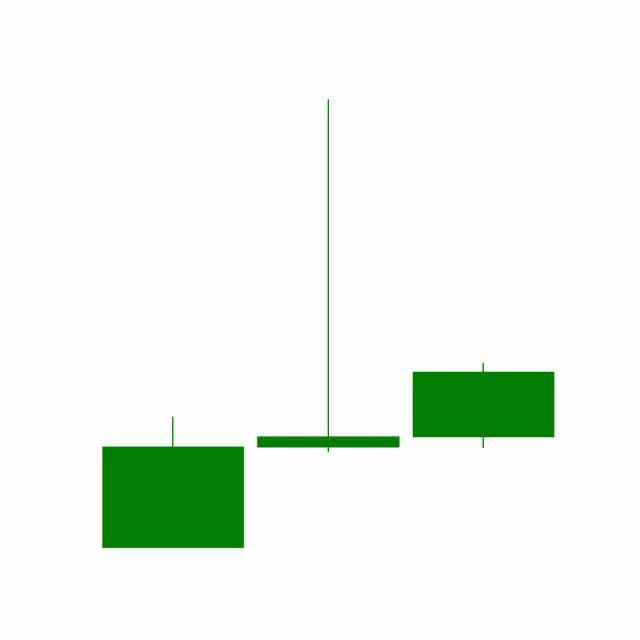Marubozu: (406, 362, 562, 450)
